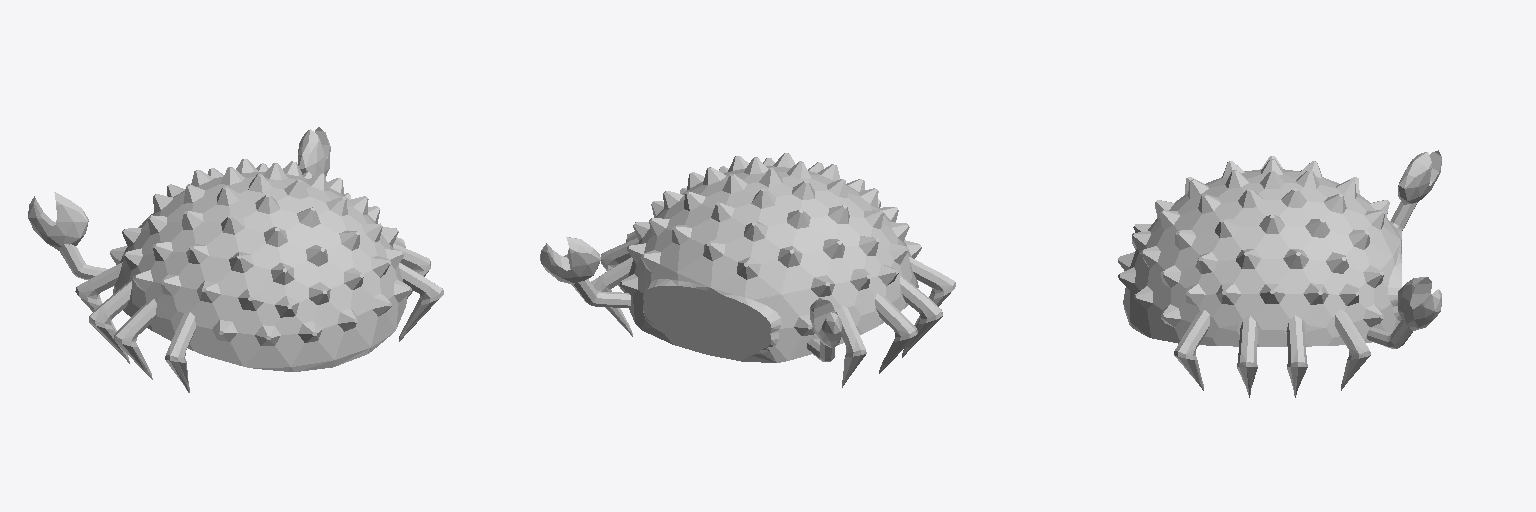
The model's file is ferris.obj.
3 renders of one model, left to right at view 1: azimuth 30°, elevation 25°; view 2: azimuth 150°, elevation 25°; view 3: azimuth 270°, elevation 25°, orthographic.
Visible parts, largest first — view 1: ferris_ferris_mesh; view 2: ferris_ferris_mesh; view 3: ferris_ferris_mesh.
Part boxes in pixels (bbox=[...]): ferris_ferris_mesh: bbox=[28, 127, 443, 392]; ferris_ferris_mesh: bbox=[540, 153, 955, 387]; ferris_ferris_mesh: bbox=[1118, 150, 1441, 397].
Bounding box in the file's own units: 1.74 × 0.886 × 1.55.